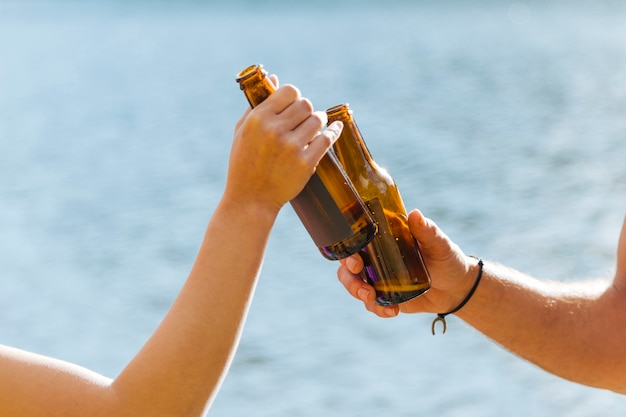alcohol: (236, 63, 379, 262), (324, 101, 434, 304)
